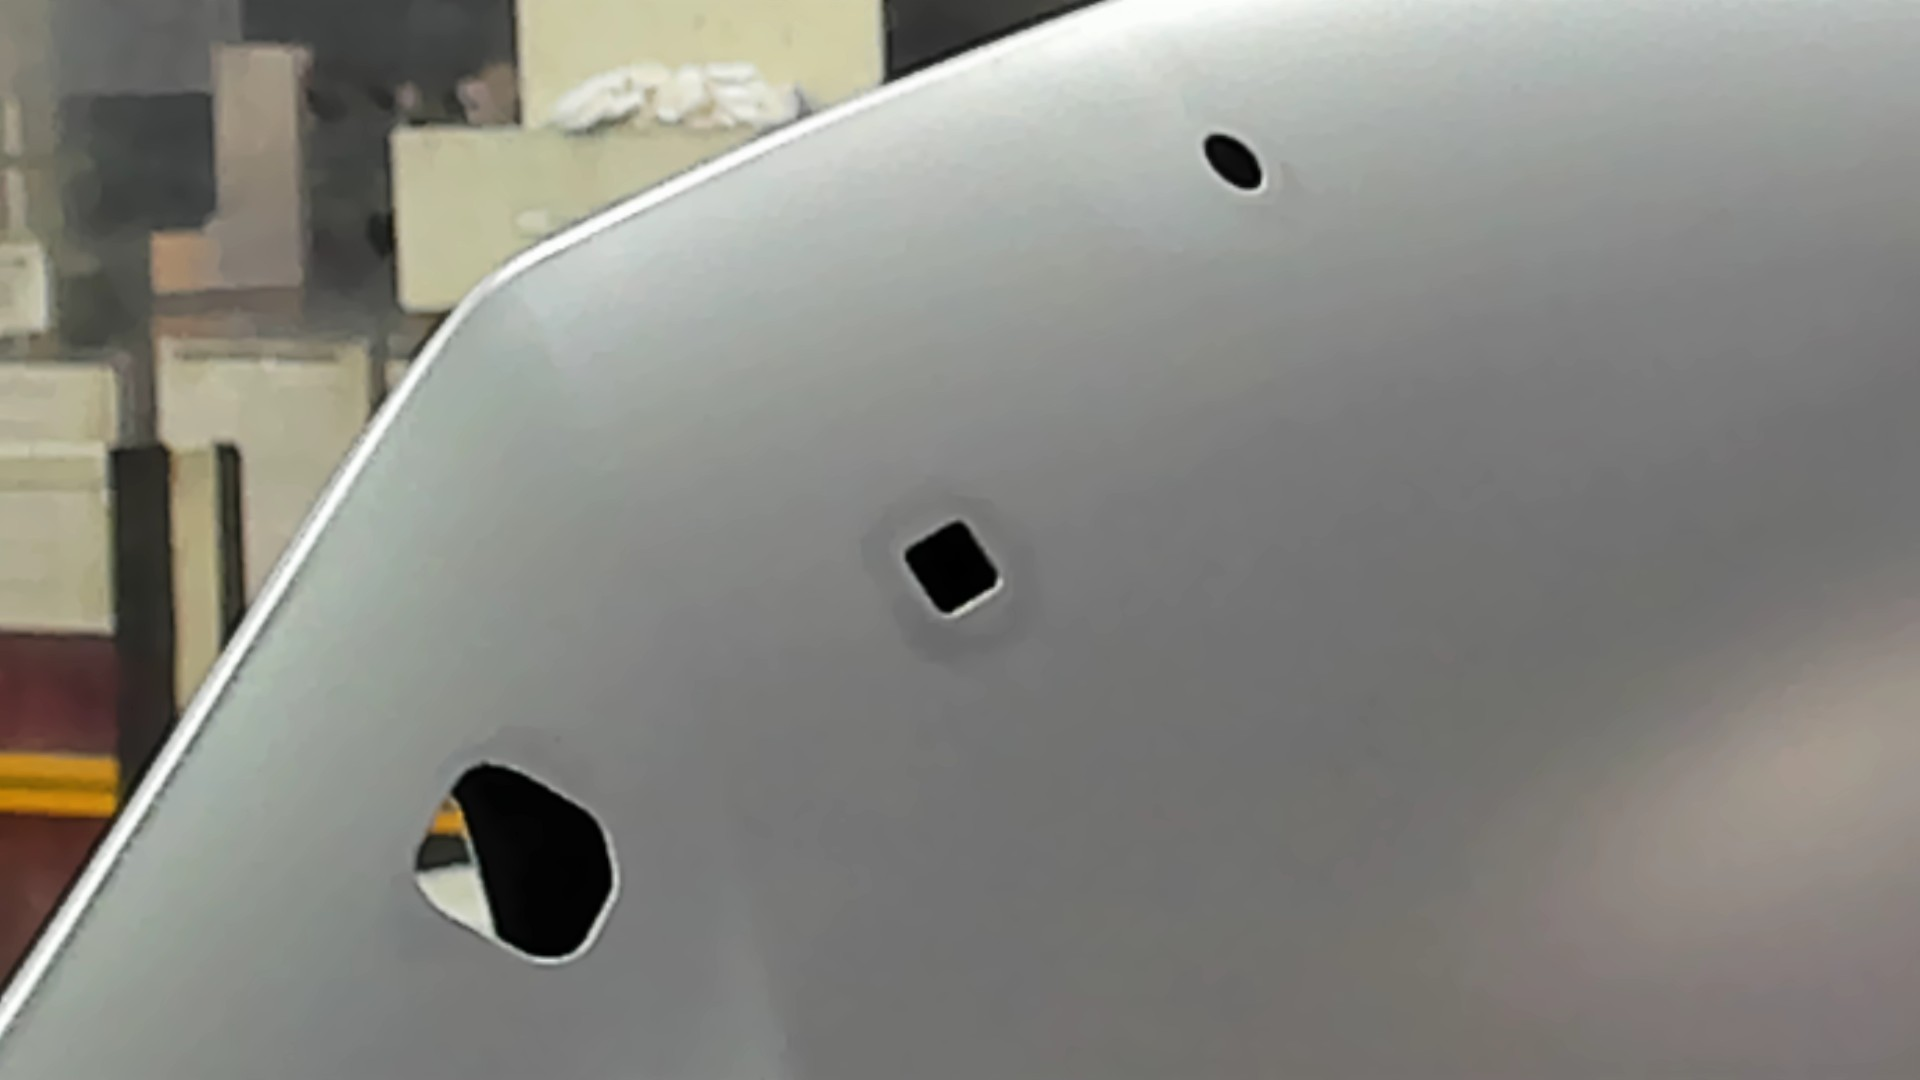capo: (1010, 200, 1920, 1080)
chico: (1197, 128, 1269, 199)
grande: (405, 754, 625, 976)
mediano: (898, 516, 1007, 622)
